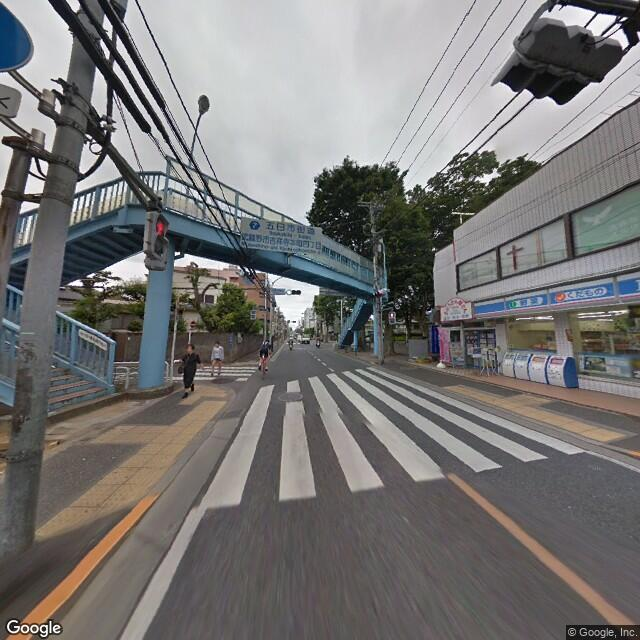lawson: (471, 267, 639, 321)
